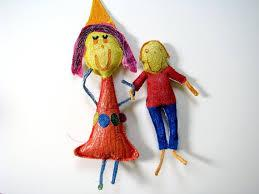Unknown plastic: (71, 3, 136, 191), (138, 28, 208, 174)
